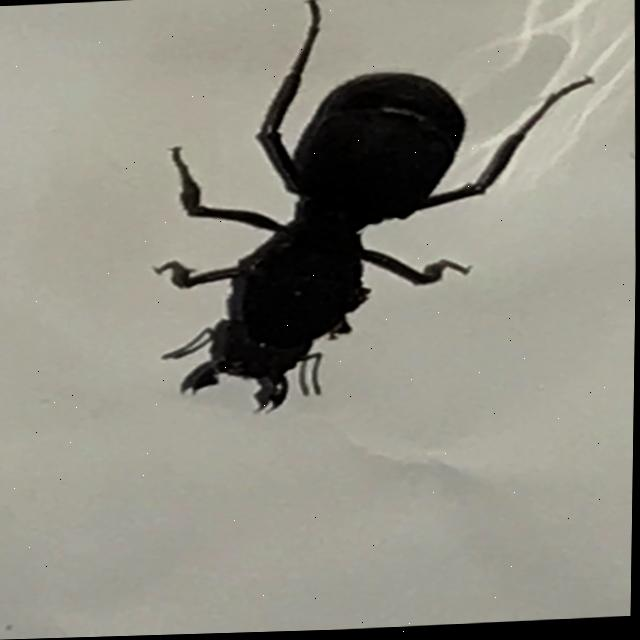Alive-Female-Dealate: (146, 0, 601, 420)
